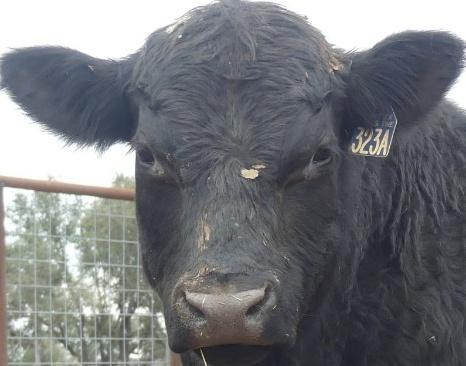muzzles: (159, 278, 306, 365)
